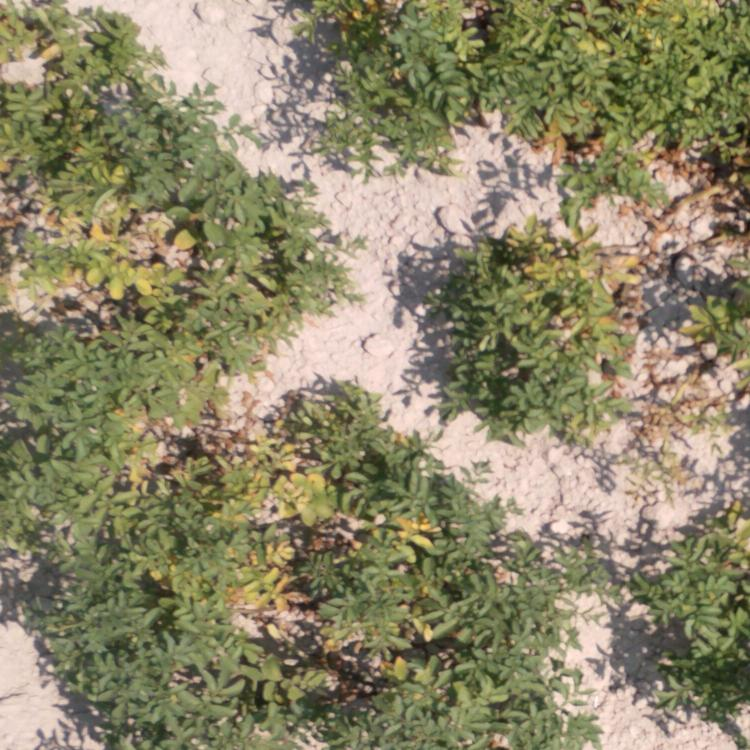healthy: (303, 1, 750, 188), (1, 342, 108, 639), (95, 663, 461, 748), (471, 513, 580, 750), (205, 153, 302, 344)
stressed: (1, 1, 197, 332), (127, 352, 336, 630), (455, 233, 615, 431), (353, 452, 457, 687), (631, 513, 750, 716), (682, 279, 750, 369)
